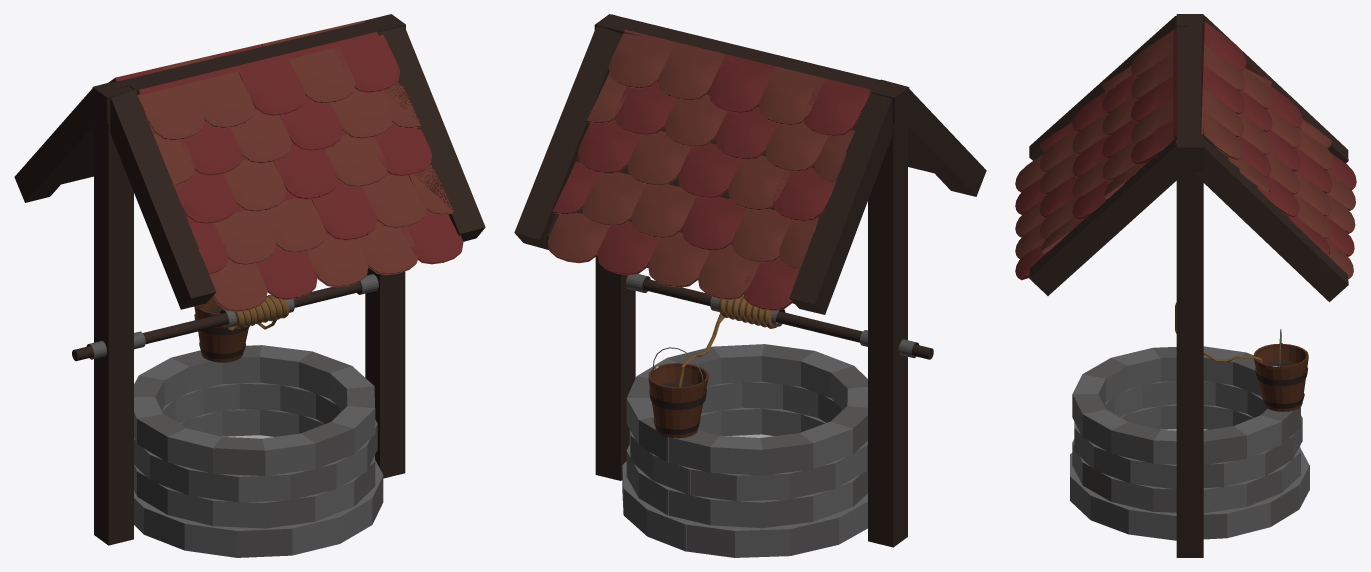
File: ido.fbx
3 renders of one model, left to right at view 1: azimuth 30°, elevation 25°; view 2: azimuth 150°, elevation 25°; view 3: azimuth 270°, elevation 25°, orthographic. The views are drawn at different scales.
Visible parts, largest first — view 1: pCube10, honegumi, pCube11, pCube9, pCube5, ido1, pCube12, pCube3, pCube4, pCube7, pCylinder57, pCylinder24 (+28 smaller); view 2: pCube10, honegumi, pCube11, pCube9, pCube7, ido1, pCube12, pCube6, pCube3, pCube5, pCylinder57, pCylinder32 (+28 smaller); view 3: pCube10, pCube12, pCube11, pCube9, pCube6, ido1, pCube4, pCube3, pCube5, yane2, pCube7, pCylinder20 (+48 smaller).
Boxes of the visible parts, x1=… form: pCube10: x1=134, y1=345, x2=375, y2=475; honegumi: x1=94, y1=114, x2=133, y2=545; pCube11: x1=134, y1=382, x2=377, y2=502; pCube9: x1=134, y1=409, x2=375, y2=528; pCube5: x1=110, y1=85, x2=215, y2=309; ido1: x1=134, y1=435, x2=383, y2=557; pCube12: x1=365, y1=267, x2=405, y2=478; pCube3: x1=61, y1=14, x2=426, y2=247; pCube4: x1=378, y1=26, x2=485, y2=241; pCube7: x1=14, y1=81, x2=114, y2=202; pCylinder57: x1=72, y1=274, x2=378, y2=361; pCylinder24: x1=137, y1=83, x2=204, y2=140; pCube10: x1=626, y1=344, x2=867, y2=475; honegumi: x1=868, y1=115, x2=907, y2=547; pCube11: x1=629, y1=381, x2=867, y2=501; pCube9: x1=626, y1=407, x2=867, y2=528; pCube7: x1=789, y1=93, x2=892, y2=314; ido1: x1=622, y1=434, x2=867, y2=557; pCube12: x1=595, y1=255, x2=635, y2=480; pCube6: x1=514, y1=26, x2=621, y2=249; pCube3: x1=546, y1=14, x2=933, y2=303; pCube5: x1=875, y1=79, x2=986, y2=196; pCylinder57: x1=626, y1=274, x2=933, y2=359; pCylinder32: x1=709, y1=54, x2=775, y2=113; pCube10: x1=1072, y1=346, x2=1300, y2=465; pCube12: x1=1176, y1=172, x2=1203, y2=557; pCube11: x1=1074, y1=381, x2=1302, y2=489; pCube9: x1=1072, y1=404, x2=1300, y2=513; pCube6: x1=1192, y1=138, x2=1348, y2=301; ido1: x1=1070, y1=429, x2=1309, y2=540; pCube4: x1=1029, y1=136, x2=1176, y2=295; pCube3: x1=1146, y1=14, x2=1288, y2=218; pCube5: x1=1029, y1=16, x2=1188, y2=160; yane2: x1=1200, y1=110, x2=1243, y2=160; pCube7: x1=1203, y1=15, x2=1348, y2=163; pCylinder20: x1=1131, y1=118, x2=1176, y2=165.
Bounding box in the file's own units: 70.13 × 92.22 × 69.01.
